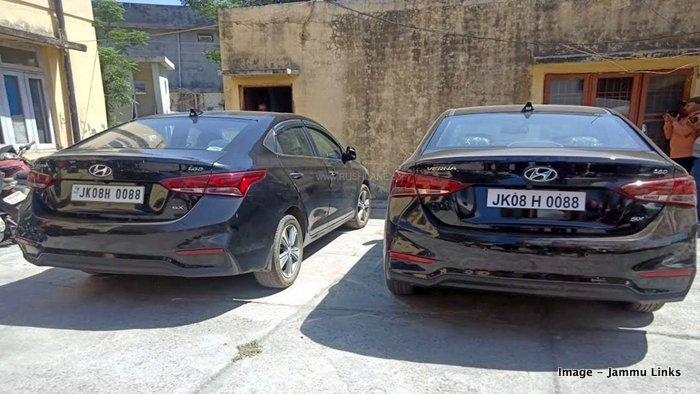numberplate: (488, 189, 587, 210), (70, 182, 145, 206)
